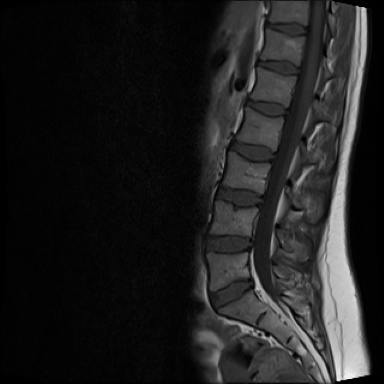Normal IVD: (203, 272, 256, 314), (213, 177, 269, 213), (225, 135, 280, 167), (252, 52, 304, 81), (202, 229, 255, 255), (242, 95, 290, 122), (264, 18, 312, 39)
